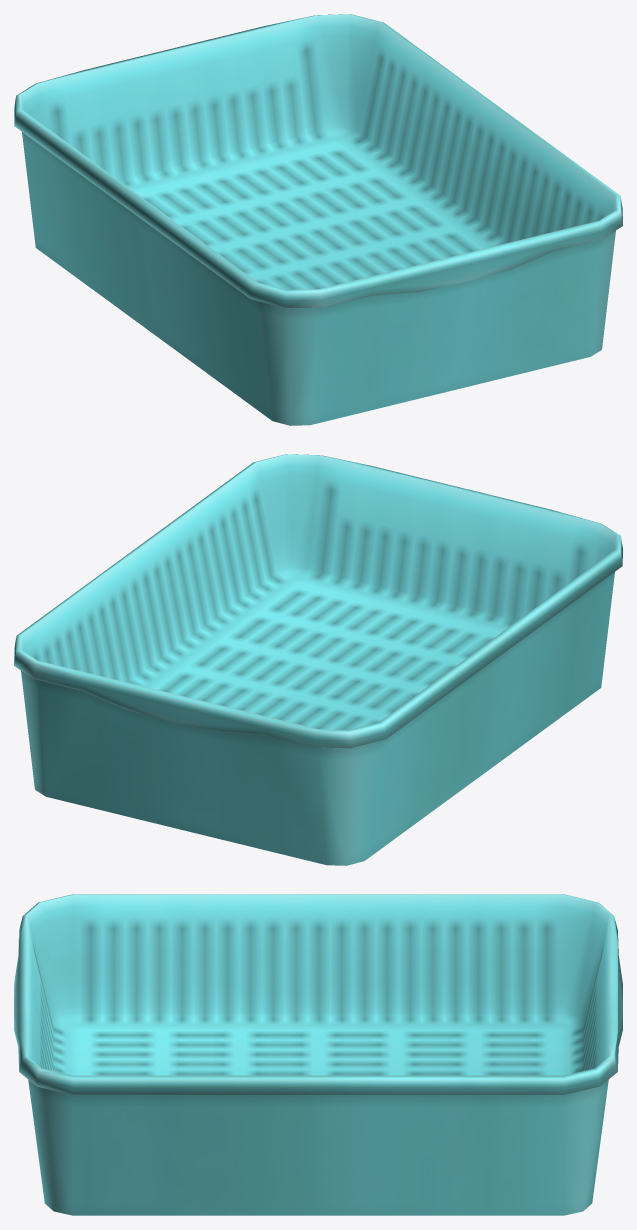
File: KR_Drainer_basket_01_02.fbx
3 renders of one model, top to bottom at view 1: azimuth 30°, elevation 25°; view 2: azimuth 150°, elevation 25°; view 3: azimuth 270°, elevation 25°, orthographic. The views are drawn at different scales.
Parts seen in each view (by area): view 1: kr_drainer_basket_01_02; view 2: kr_drainer_basket_01_02; view 3: kr_drainer_basket_01_02.
Boxes of the visible parts, box(x1,y1,x2,y2) form: kr_drainer_basket_01_02: box(14, 14, 622, 425); kr_drainer_basket_01_02: box(14, 454, 622, 865); kr_drainer_basket_01_02: box(14, 894, 622, 1215).
Size of the model in its own units: 26 by 9.5 by 35.6.
